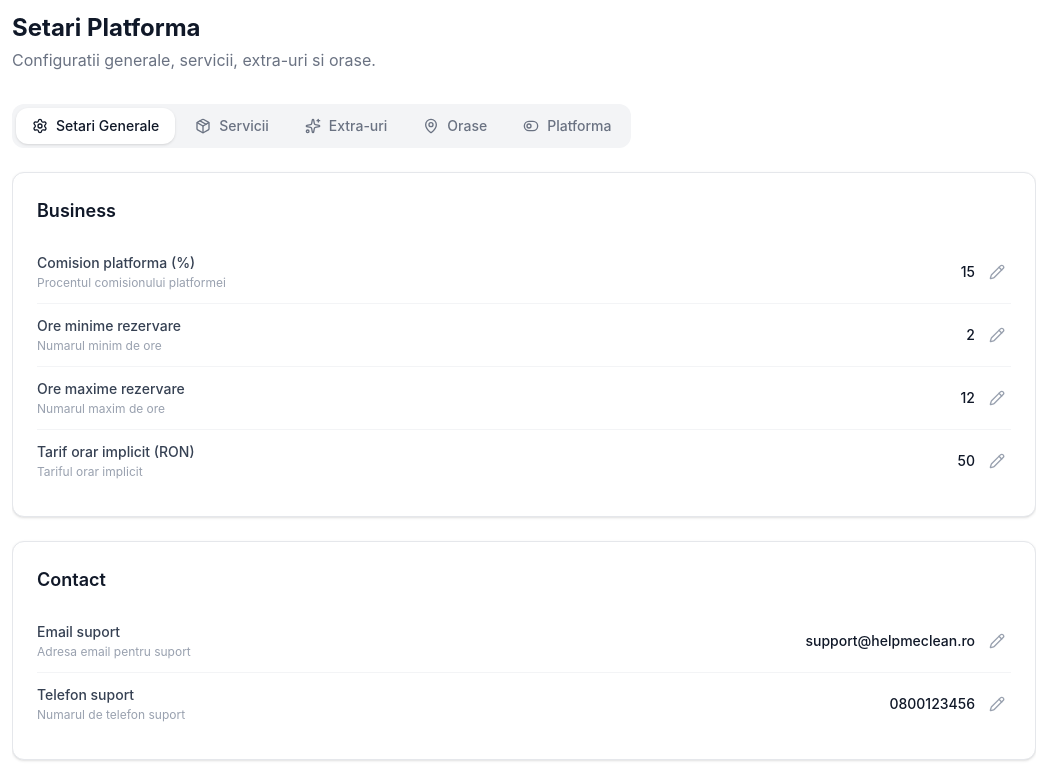
Test: Admin SettingsPage › shows "Adauga serviciu" button when Services tab is active
Click the button "Servicii". click: [232, 126]
box: [179,108,285,144]
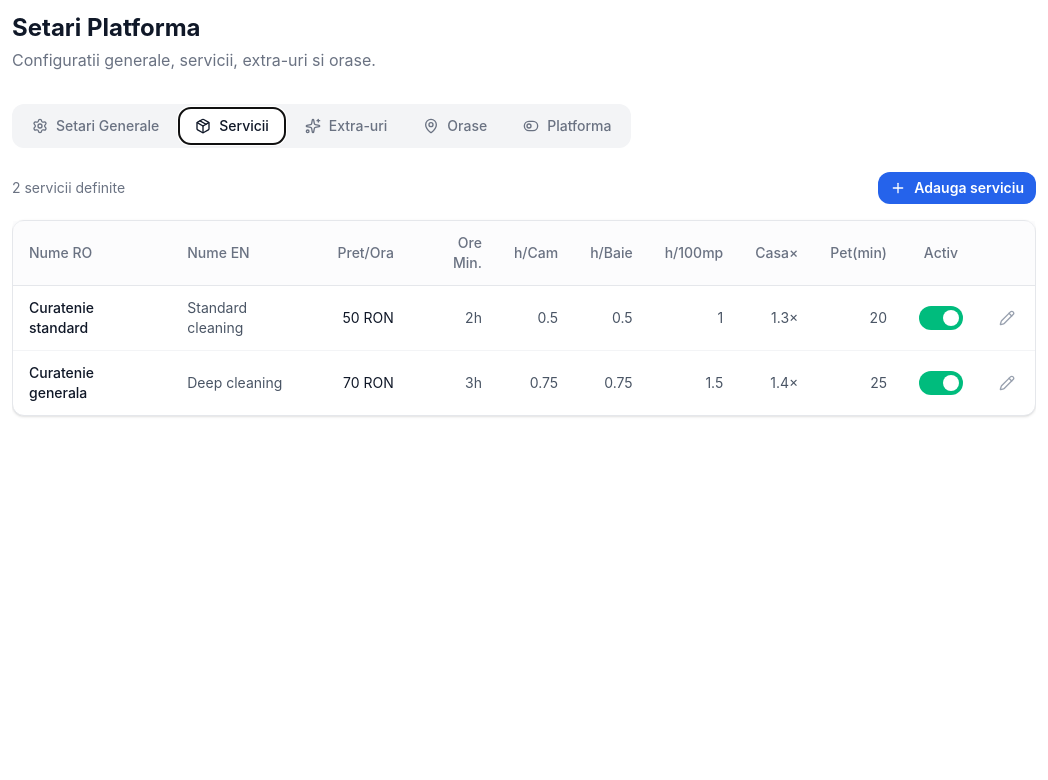
Result: the button "Adauga serviciu" is shown at [878,172,1036,204]
